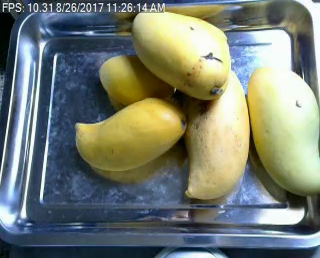Mango: (247, 65, 320, 195), (129, 10, 231, 98), (182, 70, 250, 199), (74, 96, 187, 171), (98, 54, 177, 105)
